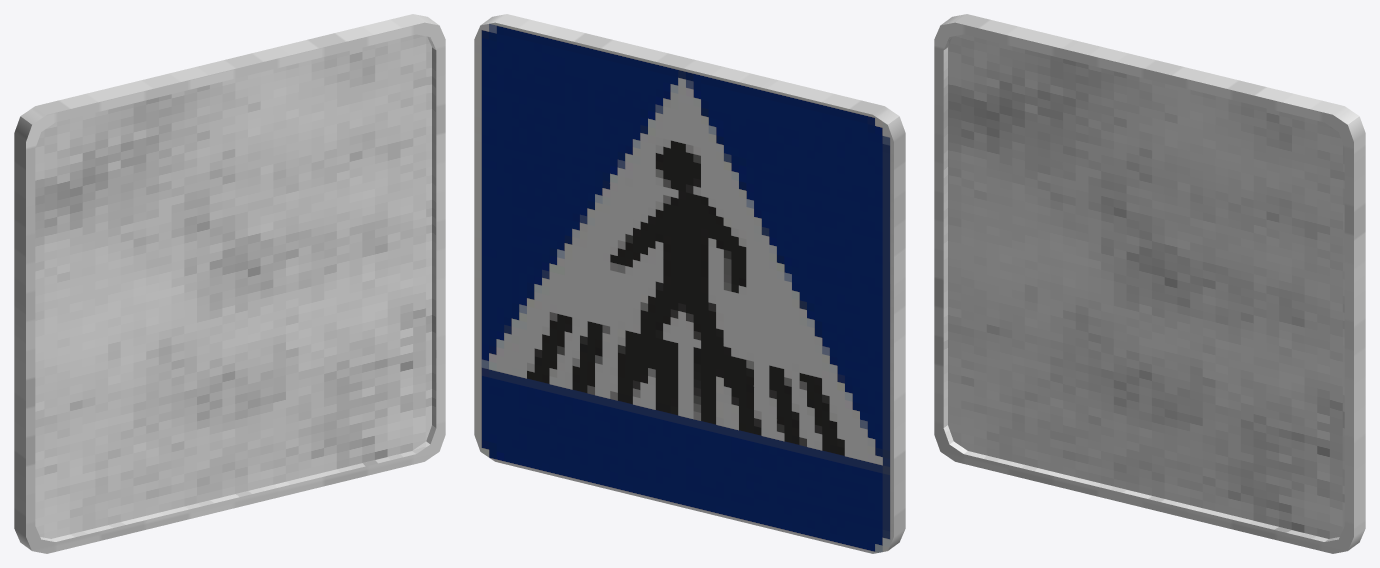
The model's file is SeñalPeatonal.fbx.
3 renders of one model, left to right at view 1: azimuth 30°, elevation 25°; view 2: azimuth 150°, elevation 25°; view 3: azimuth 330°, elevation 25°, orthographic.
Parts seen in each view (by area): view 1: Señal_Cuadrada; view 2: Señal_Cuadrada; view 3: Señal_Cuadrada.
Boxes of the visible parts, bbox=[...] form: Señal_Cuadrada: bbox=[14, 14, 445, 553]; Señal_Cuadrada: bbox=[474, 14, 905, 553]; Señal_Cuadrada: bbox=[934, 14, 1365, 553].
Size of the model in its own units: 61.56 by 61.56 by 3.
